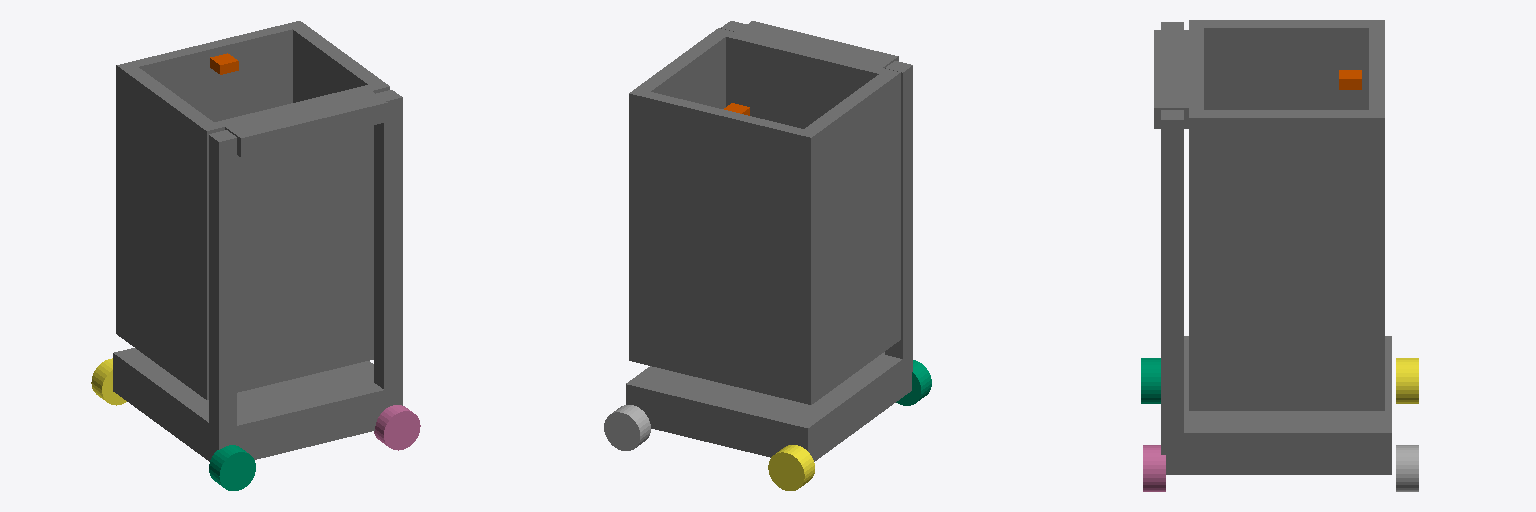
robot.urdf — trash_bot:
<?xml version="1.0"?>
<robot name="trash_bot">

  <!-- Links -->
  <link name="base_link">
    <inertial>
      <mass value="5.0" />
      <inertia ixx="0.333333" ixy="0" ixz="0" iyy="0.333333" iyz="0" izz="0.333333" />
    </inertial>
    <visual>
      <geometry>
        <mesh filename="package://trash_bot/meshes/base_link.stl" />
      </geometry>
      <material name="gray"><color rgba="0.5 0.5 0.5 1"/></material>
    </visual>
    <collision>
      <geometry>
        <mesh filename="package://trash_bot/meshes/base_link.stl" />
      </geometry>
    </collision>
  </link>

  <link name="body_link">
    <inertial>
      <mass value="0.5" />
      <inertia ixx="0.116667" ixy="0" ixz="0" iyy="0.116667" iyz="0" izz="0.116667" />
    </inertial>
    <visual>
      <origin xyz="0 0 0" rpy="0 0 0" />
      <geometry>
        <mesh filename="package://trash_bot/meshes/body_link.stl" />
      </geometry>
      <material name="gray"><color rgba="0.5 0.5 0.5 1"/></material>
    </visual>
    <collision>
      <origin xyz="0 0 0" rpy="0 0 0" />
      <geometry>
        <mesh filename="package://trash_bot/meshes/body_link.stl" />
      </geometry>
    </collision>
  </link>

  <link name="rear_right_wheel">
    <inertial>
      <mass value="0.5" />
      <inertia ixx="0.003333" ixy="0" ixz="0" iyy="0.003333" iyz="0" izz="0.005" />
    </inertial>
    <visual>
      <origin xyz="0 0 0" rpy="0 0 0" />
      <geometry>
        <cylinder radius="0.1" length="0.1" />
      </geometry>
    </visual>
    <collision>
      <origin xyz="0 0 0" rpy="0 0 0" />
      <geometry>
        <cylinder radius="0.1" length="0.1" />
      </geometry>
    </collision>
  </link>

  <link name="rear_left_wheel">
    <inertial>
      <mass value="0.5" />
      <inertia ixx="0.003333" ixy="0" ixz="0" iyy="0.003333" iyz="0" izz="0.005" />
    </inertial>
    <visual>
      <origin xyz="0 0 0" rpy="0 0 0" />
      <geometry>
        <cylinder radius="0.1" length="0.1" />
      </geometry>
    </visual>
    <collision>
      <origin xyz="0 0 0" rpy="0 0 0" />
      <geometry>
        <cylinder radius="0.1" length="0.1" />
      </geometry>
    </collision>
  </link>

  <link name="gpu_lidar">
    <inertial>
      <mass value="0.5" />
      <inertia ixx="0.003333" ixy="0" ixz="0" iyy="0.003333" iyz="0" izz="0.005" />
    </inertial>
    <visual>
      <origin xyz="0 0 0" rpy="0 0 0" />
      <geometry>
        <cylinder radius="0.1" length="0.05" />
      </geometry>
    </visual>
    <collision>
      <origin xyz="0 0 0" rpy="0 0 0" />
      <geometry>
        <cylinder radius="0.1" length="0.1" />
      </geometry>
    </collision>
  </link>

  <link name="head_lidar">
    <inertial>
      <mass value="0.5" />
      <inertia ixx="0.000521" ixy="0" ixz="0" iyy="0.000521" iyz="0" izz="0.000833" />
    </inertial>
    <visual>
      <origin xyz="0 0 0" rpy="0 0 0" />
      <geometry>
        <box size="0.05 0.1 0.1" />
      </geometry>
    </visual>
    <collision>
      <origin xyz="0 0 0" rpy="0 0 0" />
      <geometry>
        <box size="0.05 0.1 0.1" />
      </geometry>
    </collision>
  </link>

  <link name="front_right_wheel">
    <inertial>
      <mass value="0.5" />
      <inertia ixx="0.003333" ixy="0" ixz="0" iyy="0.003333" iyz="0" izz="0.005" />
    </inertial>
    <visual>
      <origin xyz="0 0 0" rpy="0 0 0" />
      <geometry>
        <cylinder radius="0.1" length="0.1" />
      </geometry>
    </visual>
    <collision>
      <origin xyz="0 0 0" rpy="0 0 0" />
      <geometry>
        <cylinder radius="0.1" length="0.1" />
      </geometry>
    </collision>
  </link>

  <link name="front_left_wheel">
    <inertial>
      <mass value="0.5" />
      <inertia ixx="0.003333" ixy="0" ixz="0" iyy="0.003333" iyz="0" izz="0.005" />
    </inertial>
    <visual>
      <origin xyz="0 0 0" rpy="0 0 0" />
      <geometry>
        <cylinder radius="0.1" length="0.1" />
      </geometry>
    </visual>
    <collision>
      <origin xyz="0 0 0" rpy="0 0 0" />
      <geometry>
        <cylinder radius="0.1" length="0.1" />
      </geometry>
    </collision>
  </link>

  <!-- Joints -->
  <joint name="cylinder_joint" type="revolute">
    <origin xyz="0 -0.45 1.6" rpy="0 0 0" />
    <parent link="base_link" />
    <child link="body_link" />
    <axis xyz="1 0 0"/>
    <limit effort="1000" velocity="10" lower="-3.14" upper="3.14" />
  </joint>

  <joint name="rear_right_wheel_joint" type="continuous">
    <origin xyz="-0.45 -0.55798 -0.1" rpy="-1.5708 0 0" />
    <parent link="base_link" />
    <child link="rear_right_wheel" />
    <axis xyz="0 0 1" />
  </joint>

  <joint name="rear_left_wheel_joint" type="continuous">
    <origin xyz="-0.45 0.55 -0.1" rpy="-1.5708 0 0" />
    <parent link="base_link" />
    <child link="rear_left_wheel" />
    <axis xyz="0 0 1" />
  </joint>

  <joint name="gpu_lidar_joint" type="fixed">
    <origin xyz="0 0 0.1" rpy="0 0 0" />
    <parent link="base_link" />
    <child link="gpu_lidar" />
  </joint>

  <joint name="head_lidar_joint" type="fixed">
    <origin xyz="0 0.75 -0.05" rpy="0 1.5708 1.5708" />
    <parent link="body_link" />
    <child link="head_lidar" />
  </joint>

  <joint name="front_right_wheel_joint" type="continuous">
    <origin xyz="0.45 -0.55 -0.1" rpy="-1.5708 0 0" />
    <parent link="base_link" />
    <child link="front_right_wheel" />
    <axis xyz="0 0 1" />
  </joint>

  <joint name="front_left_wheel_joint" type="continuous">
    <origin xyz="0.45 0.55 -0.1" rpy="-1.5708 0 0" />
    <parent link="base_link" />
    <child link="front_left_wheel" />
    <axis xyz="0 0 1" />
  </joint>

  <!-- ───── Gazebo Fortress ───── -->

  <gazebo reference="front_left_wheel">
    <collision>
      <surface>
        <friction>
          <ode><mu>1.0</mu><mu2>1.0</mu2></ode>
        </friction>
      </surface>
    </collision>
  </gazebo>

  <gazebo reference="front_right_wheel">
    <collision>
      <surface>
        <friction>
          <ode><mu>1.0</mu><mu2>1.0</mu2></ode>
        </friction>
      </surface>
    </collision>
  </gazebo>

  <gazebo reference="rear_left_wheel">
    <collision>
      <surface>
        <friction>
          <ode><mu>0</mu><mu2>0</mu2></ode>
        </friction>
      </surface>
    </collision>
  </gazebo>

  <gazebo reference="rear_right_wheel">
    <collision>
      <surface>
        <friction>
          <ode><mu>0</mu><mu2>0</mu2></ode>
        </friction>
      </surface>
    </collision>
  </gazebo>

  <!-- ───── Diff drive plugin ───── -->

  <gazebo>
    <plugin filename="gz-sim-diff-drive-system"
            name="gz::sim::systems::DiffDrive">
      <left_joint>front_left_wheel_joint</left_joint>
      <left_joint>rear_left_wheel_joint</left_joint>
      <right_joint>front_right_wheel_joint</right_joint>
      <right_joint>rear_right_wheel_joint</right_joint>
      <wheel_separation>1.1</wheel_separation>
      <wheel_radius>0.1</wheel_radius>
      <odom_publish_frequency>10</odom_publish_frequency>
      <topic>cmd_vel</topic>
      <odom_topic>odom</odom_topic>
      <tf_topic>/tf</tf_topic>
      <frame_id>odom</frame_id>
      <child_frame_id>base_link</child_frame_id>
      <max_linear_acceleration>1.0</max_linear_acceleration>
    </plugin>
  </gazebo>

  <!-- ───── LiDAR sensor (2D) ───── -->

  <gazebo reference="gpu_lidar">
    <sensor name="laser" type="gpu_lidar">
      <gz_frame_id>gpu_lidar</gz_frame_id>
      <pose>0 0 0 0 0 0</pose>
      <topic>scan</topic>
      <update_rate>10</update_rate>
      <lidar>
        <scan>
          <horizontal>
            <samples>360</samples>
            <resolution>1</resolution>
            <min_angle>-3.14159</min_angle>
            <max_angle>3.14159</max_angle>
          </horizontal>
        </scan>
        <range>
          <min>0.8</min>
          <max>10.0</max>
          <resolution>0.01</resolution>
        </range>
      </lidar>
      <always_on>1</always_on>
      <visualize>true</visualize>
    </sensor>
  </gazebo>

  <!-- ───── LiDAR sensor (2D) ───── -->

  <gazebo reference="head_lidar">
    <sensor name="laser" type="gpu_lidar">
      <gz_frame_id>head_lidar</gz_frame_id>
      <pose>0 0 0 0 0 0</pose>
      <topic>scan1</topic>
      <update_rate>10</update_rate>
      <lidar>
        <scan>
          <horizontal>
            <samples>360</samples>
            <resolution>1</resolution>
            <min_angle>-0.2</min_angle>
            <max_angle>0.2</max_angle>
          </horizontal>
        </scan>
        <range>
          <min>0.05</min>
          <max>10.0</max>
          <resolution>0.01</resolution>
        </range>
      </lidar>
      <always_on>1</always_on>
      <visualize>true</visualize>
    </sensor>
  </gazebo>

  <!-- ───── Gazebo sim ROS2 Control Plugin ───── -->

  <gazebo>
    <plugin filename="ign_ros2_control-system"
        name="ign_ros2_control::IgnitionROS2ControlPlugin">
      <parameters>
        /home/minj/ros2_ws/install/trash_bot/share/trash_bot/config/trashbot_controller.yaml
      </parameters>
      <hold_joints>false</hold_joints>
    </plugin>
  </gazebo>

  <!-- ───── ros2_control ───── -->

  <ros2_control name="GazeboSimSystem" type="system">
    <hardware>
      <plugin>ign_ros2_control/IgnitionSystem</plugin>
    </hardware>
    <joint name="cylinder_joint">
      <command_interface name="position">
        <param name="min">0.0</param>
        <param name="max">1.57</param>
      </command_interface>
      <state_interface name="position"/>
      <state_interface name="velocity"/>
    </joint>
  </ros2_control>

</robot>

--- What the picture shows (computed from the rendered views, not written in the file) ---
Views: 3 orthographic renders of the robot side by side, from view 1: azimuth 30°, elevation 25°; view 2: azimuth 150°, elevation 25°; view 3: azimuth 270°, elevation 25°.
Robot: trash_bot — 8 links, 7 joints (1 revolute, 4 continuous, 2 fixed); root link base_link; default pose: all joints at 0.
Visible links, largest first — view 1: body_link, base_link, rear_right_wheel, front_right_wheel, rear_left_wheel; view 2: body_link, base_link, front_left_wheel, rear_left_wheel, rear_right_wheel; view 3: body_link, base_link, front_left_wheel, rear_left_wheel, front_right_wheel, rear_right_wheel.
Link boxes in pixels (<box>): body_link: <box>116,21,389,399</box>; base_link: <box>113,90,402,461</box>; rear_right_wheel: <box>209,445,255,490</box>; front_right_wheel: <box>374,405,420,450</box>; rear_left_wheel: <box>91,358,126,405</box>; body_link: <box>629,21,900,404</box>; base_link: <box>626,21,912,461</box>; front_left_wheel: <box>604,405,650,450</box>; rear_left_wheel: <box>768,445,814,490</box>; rear_right_wheel: <box>896,360,931,405</box>; body_link: <box>1154,20,1384,410</box>; base_link: <box>1161,22,1391,474</box>; front_left_wheel: <box>1396,445,1418,491</box>; rear_left_wheel: <box>1396,358,1418,403</box>; front_right_wheel: <box>1143,445,1165,491</box>; rear_right_wheel: <box>1141,358,1160,403</box>.
Bounding box of the posed robot: 1.1 × 1.21 × 1.8 m (x, y, z).
Meshes: 2 distinct files referenced, 2 mesh visuals loaded (2 binary STL).
